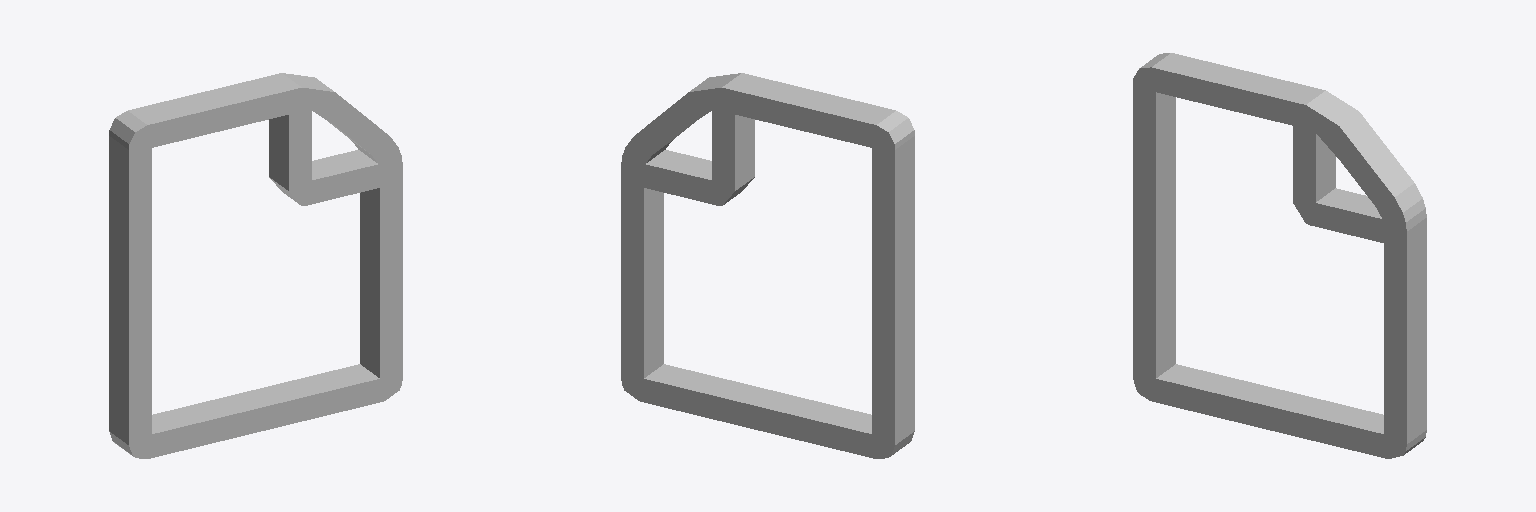
Rendered from fa-save.obj.
The picture shows the model from 3 angles: view 1: azimuth 30°, elevation 25°; view 2: azimuth 150°, elevation 25°; view 3: azimuth 330°, elevation 25°; orthographic projection.
Size of the model in its own units: 0.9072 by 1.06 by 0.1152.